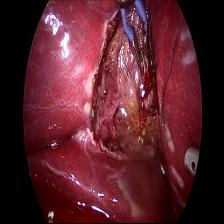Bipolar: (118, 4, 160, 88)
Irrigator: (181, 142, 205, 181)
